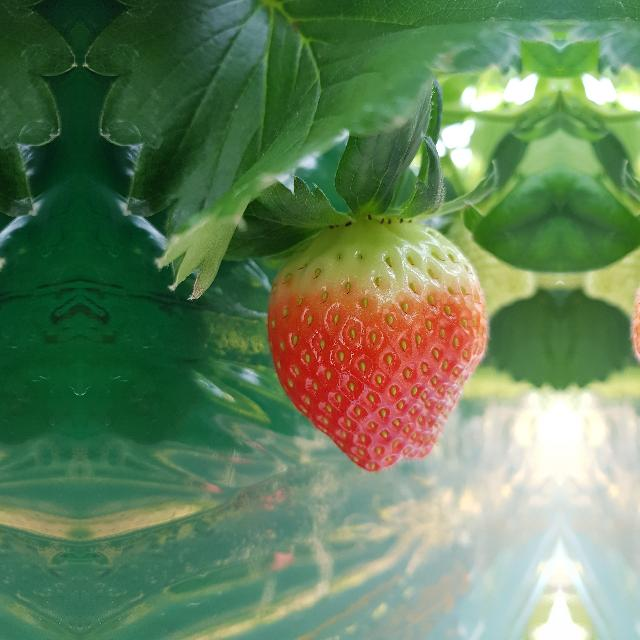Health_75: (266, 218, 490, 472)
